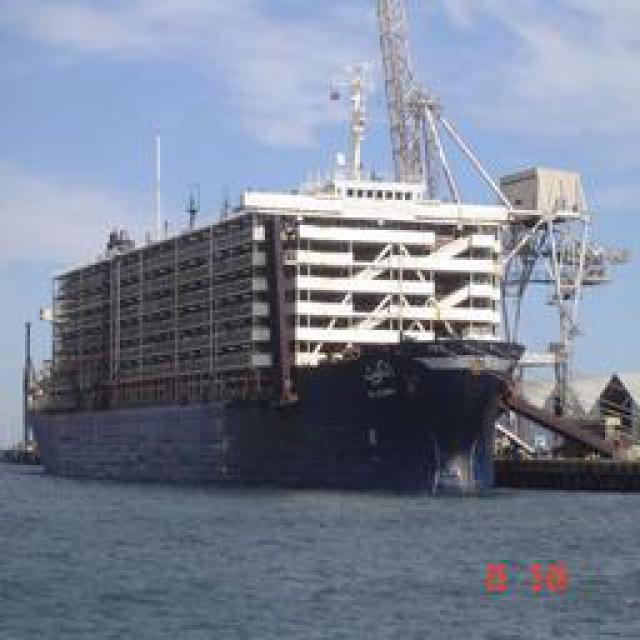Ship: (41, 12, 559, 492)
